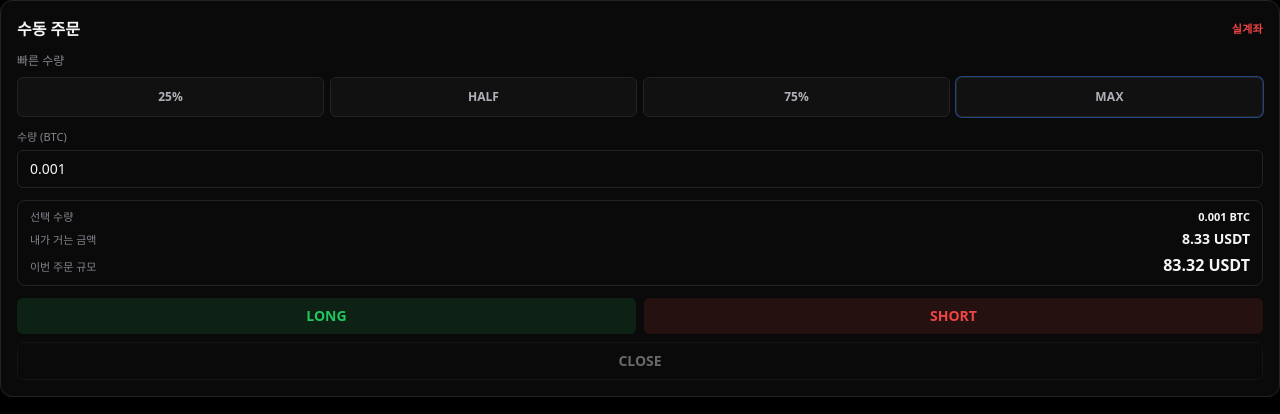
Test: the quick size row on the ticket › writes the chosen size into the quantity box and nothing else
Click the button with test id "live-preset-HALF": point(484, 97) [330,77,637,117]
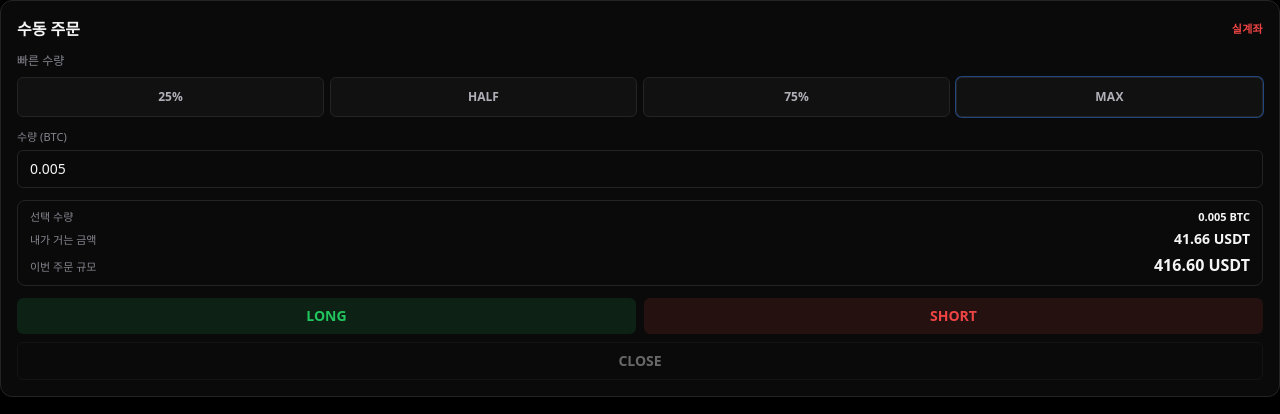
Check: the field with test id "live-qty-input" holds "0.005", box [17,150,1263,188]
